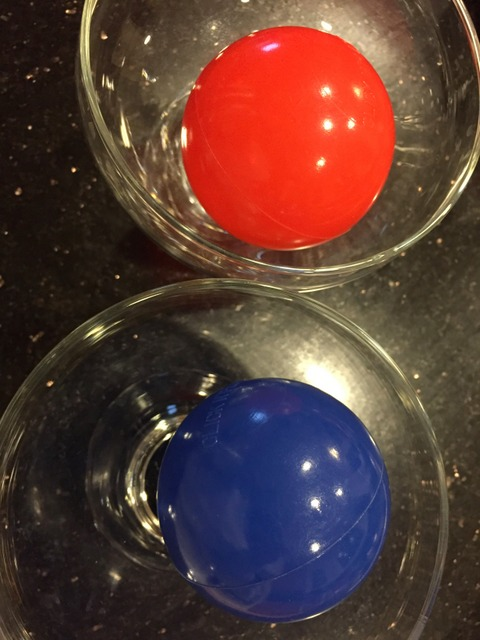Ball: (156, 377, 387, 619)
